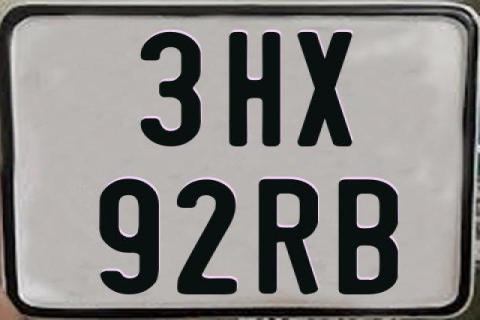0: (96, 178, 159, 296), (138, 31, 200, 147), (177, 178, 237, 294)
B: (338, 177, 400, 293)
H: (229, 29, 281, 145)
R: (258, 178, 320, 298)
X: (296, 30, 352, 146)
